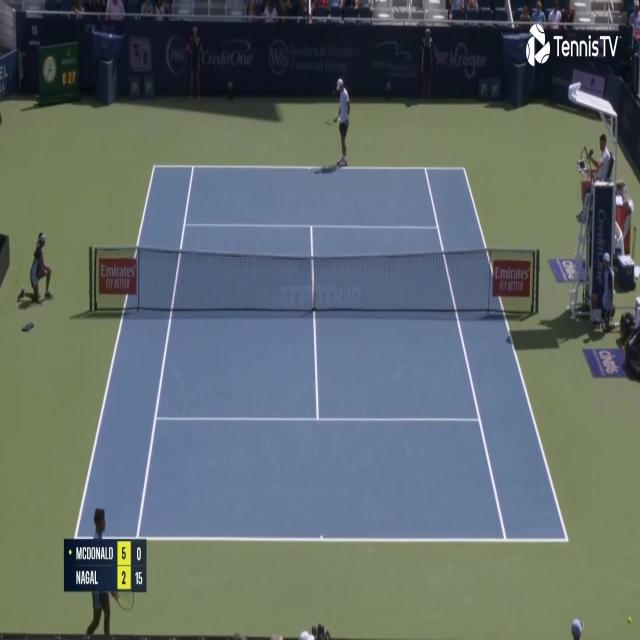tennis-player: (82, 502, 134, 635), (322, 72, 352, 170)
